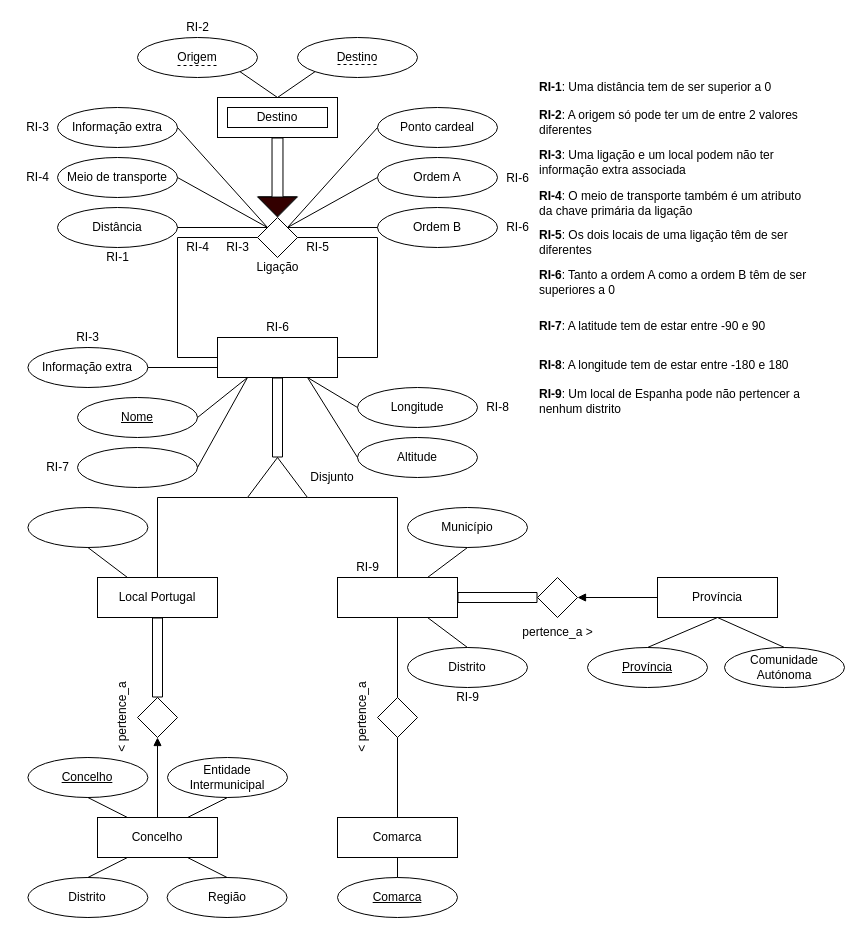
Some shapes in this 862 by 935 pixel diagram are drawn without their labels. The box of each missing label's shape, as (x1, y1, x2, y2) in pixels:
Freguesia: (27, 506, 148, 548)
Latitude: (76, 446, 198, 488)
Local: (216, 336, 338, 378)
Local Espanha: (336, 576, 458, 618)
